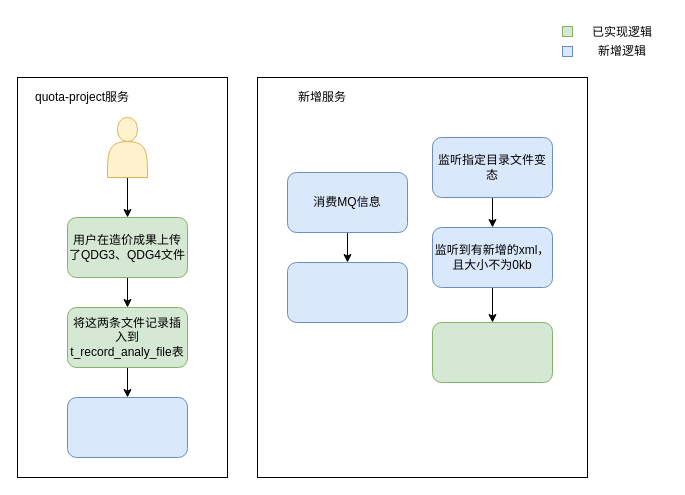
Image size: 685x495. Some labels were removed from this diagram. The centre of each missing label's shape, as x and y in pixels:
"上传xml并回调解析xml方法以及与对应文件建立联系" belongs at point 492,352.
"发送一条MQ记录" belongs at point 127,427.
"将对应文件下载到指定目录下，并设置文件名为对应id" belongs at point 347,292.
